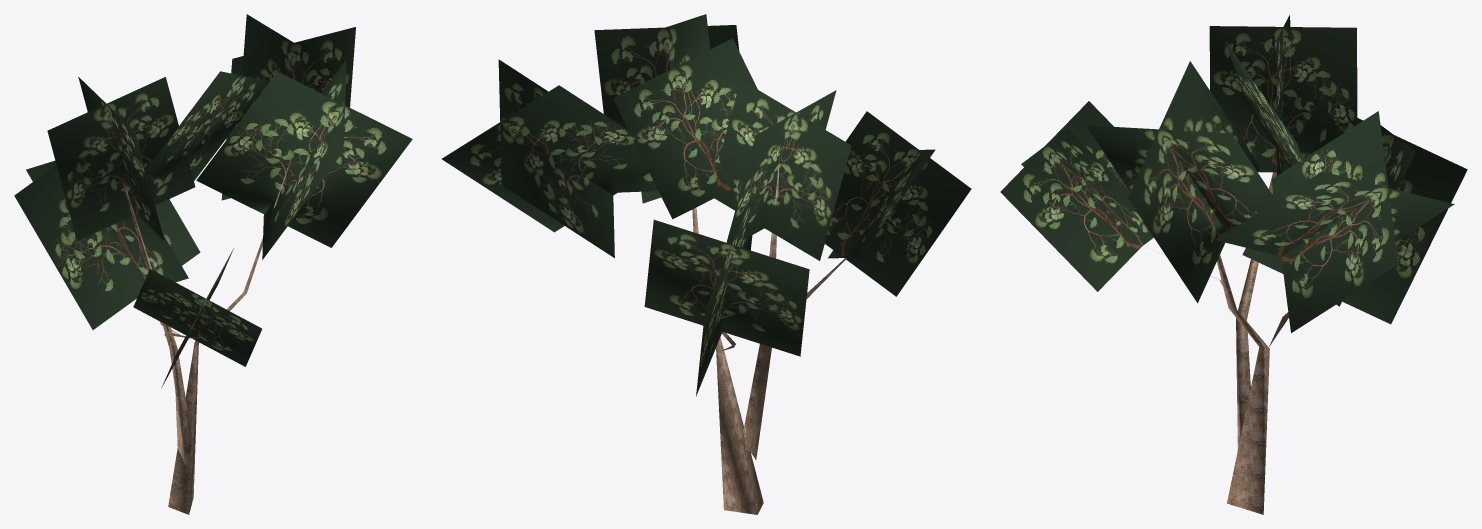
File: decd_ginkgotreeleaves_a1_l2.fbx
3 renders of one model, left to right at view 1: azimuth 30°, elevation 25°; view 2: azimuth 150°, elevation 25°; view 3: azimuth 270°, elevation 25°, orthographic. The views are drawn at different scales.
Parts seen in each view (by area): view 1: mesh_node; view 2: mesh_node; view 3: mesh_node.
Part boxes in pixels (<box>): mesh_node: <box>14,14,412,514</box>; mesh_node: <box>442,14,971,514</box>; mesh_node: <box>1000,15,1467,514</box>.
Size of the model in its own units: 6.81 by 8.3 by 7.31.
Materials: 2 (2 with a texture image).
